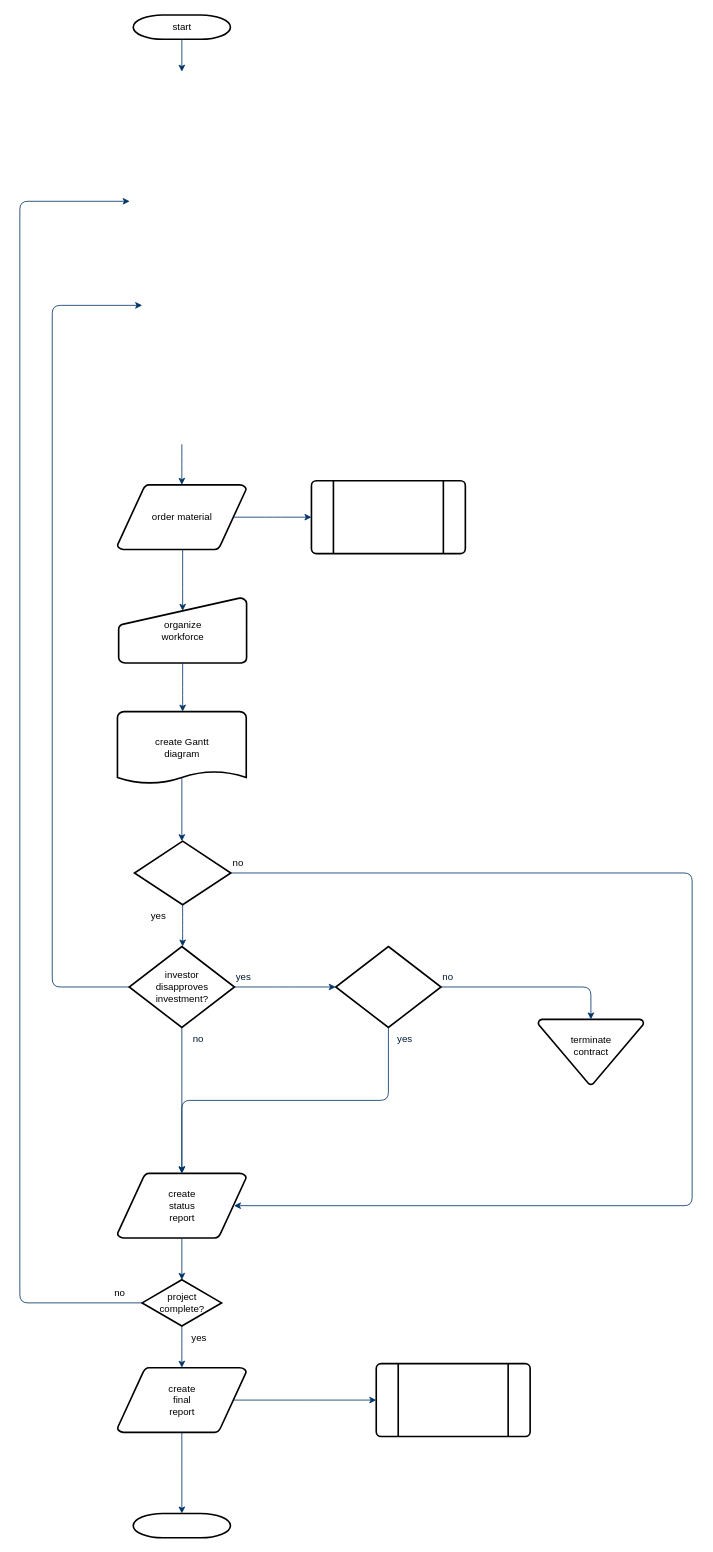
Image size: 713x1552. Some labels were removed from this diagram. Here are the shapes that lost their labels. From the top down, the centre of each, then its label:
At (388,517): "material balance".
At (182,872): "late project changes?".
At (388,986): "agreement?".
At (453,1399): "issue bill of works".
At (181,1525): "end".
